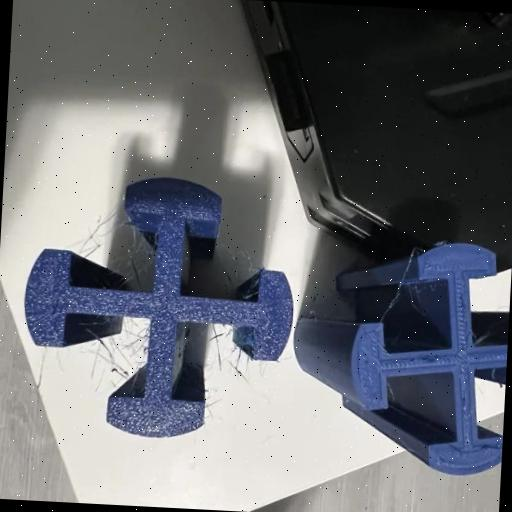stringing: (76, 319, 134, 380), (76, 208, 128, 257), (118, 246, 150, 276), (124, 326, 148, 358), (208, 328, 228, 358), (226, 352, 250, 372)
